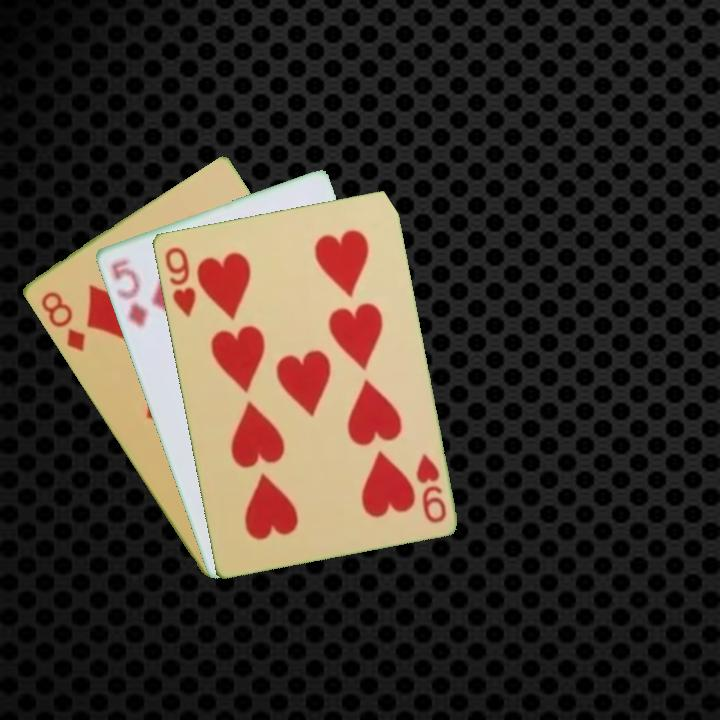5d: (107, 255, 150, 331)
8d: (36, 287, 88, 354)
9h: (160, 243, 198, 320), (412, 450, 449, 526)
